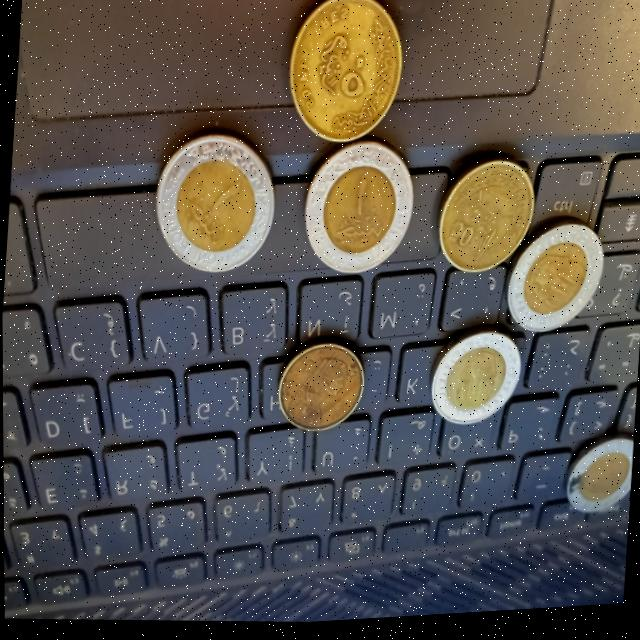Half Pound: (272, 0, 420, 156), (421, 135, 548, 296), (269, 333, 373, 446)
One Pound: (143, 117, 283, 291), (294, 131, 424, 293), (504, 222, 608, 349), (421, 325, 529, 446), (559, 426, 634, 540)
